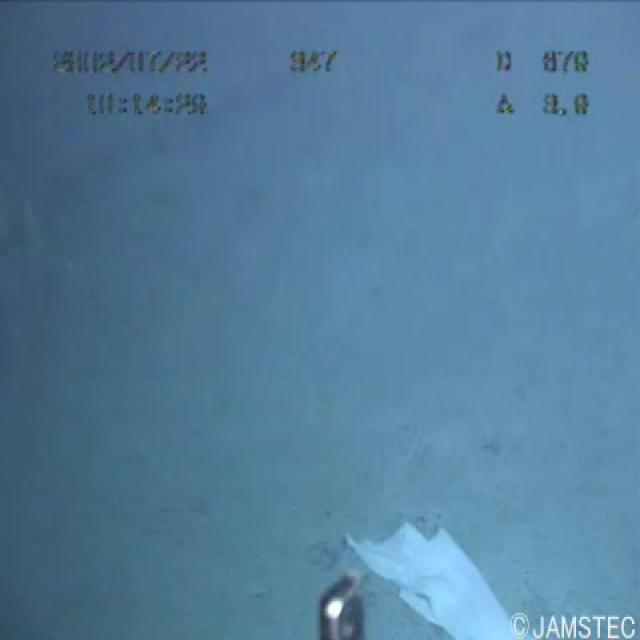plastic: (327, 508, 548, 638)
